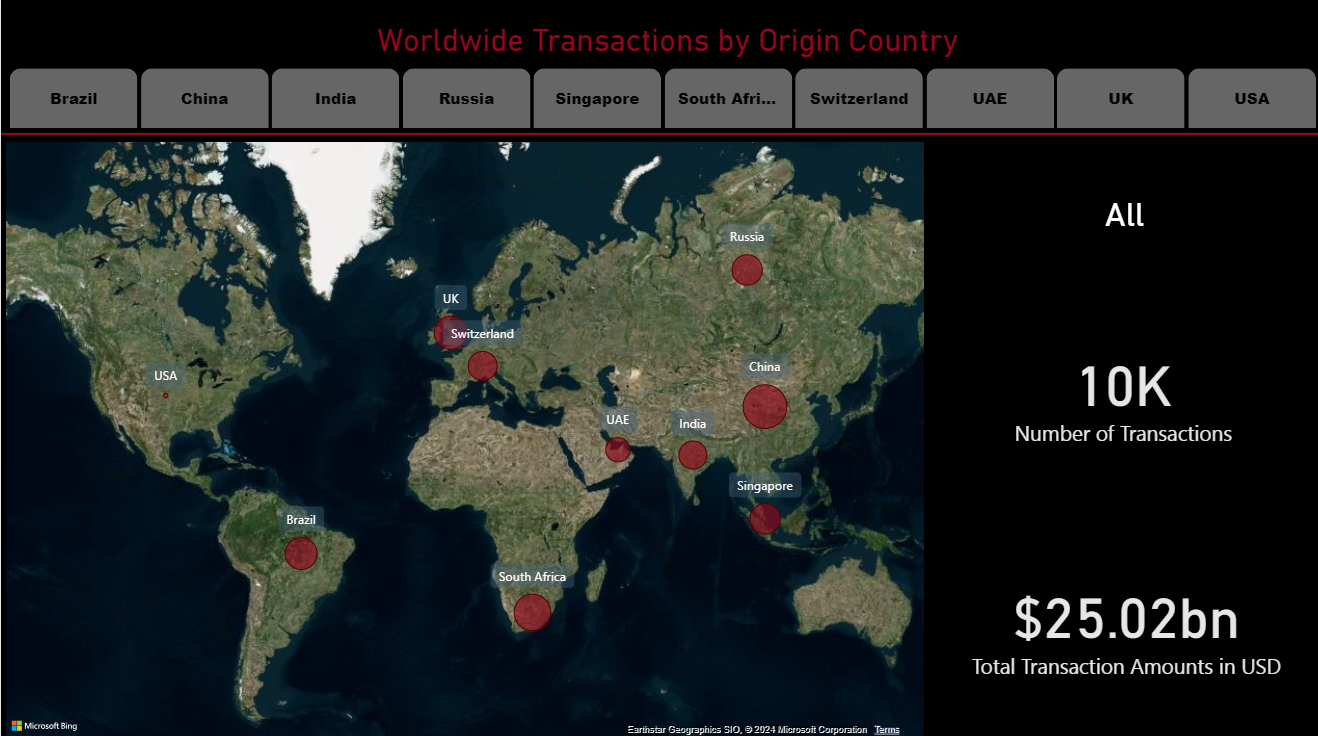

What the dashboard file says about the page in this screenshot:
{"tool":"powerbi","page":{"name":"Worldwide Transactions by Origin Country","canvas":[1280,720],"ordinal":0},"visuals":[{"type":"map","fields":{"Category":["Big_Black_Money_Dataset.Origin Country"],"Size":["Sum(Big_Black_Money_Dataset.Amount (USD))"]},"box":[0,133.7,894.5,586.5],"z":0},{"type":"cardVisual","title":"Worldwide Transactions by Origin Country","fields":{"Data":["Big_Black_Money_Dataset.Selected Countries"]},"box":[892,133.7,380.4,141.1],"z":1000},{"type":"card","fields":{"Values":["CountNonNull(Big_Black_Money_Dataset.Transaction ID)"]},"box":[894.5,274.8,373,211],"z":2000},{"type":"card","fields":{"Values":["Sum(Big_Black_Money_Dataset.Amount (USD))"]},"box":[895.7,485.9,376.7,234.4],"z":3000},{"type":"shape","box":[0,115.3,1279.8,30.7],"z":4000},{"type":"advancedSlicerVisual","title":"Worldwide Transactions by Origin Country","fields":{"Values":["Big_Black_Money_Dataset.Origin Country"]},"box":[3.7,18.4,1276.1,112.9],"z":5000}]}

Visuals, with their boxes in screenshot pixels (x1, y1, x2, y2), scaled from the page's 1280x720 canvas onto the 1318x736 screenshot:
map - Big_Black_Money_Dataset.Origin Country x Sum(Big_Black_Money_Dataset.Amount (USD)): bbox=[0, 137, 921, 735]
"Worldwide Transactions by Origin Country" cardVisual: bbox=[918, 137, 1310, 281]
card - CountNonNull(Big_Black_Money_Dataset.Transaction ID): bbox=[921, 281, 1305, 497]
card - Sum(Big_Black_Money_Dataset.Amount (USD)): bbox=[922, 497, 1310, 735]
shape: bbox=[0, 118, 1317, 149]
"Worldwide Transactions by Origin Country" advancedSlicerVisual: bbox=[4, 19, 1317, 134]
